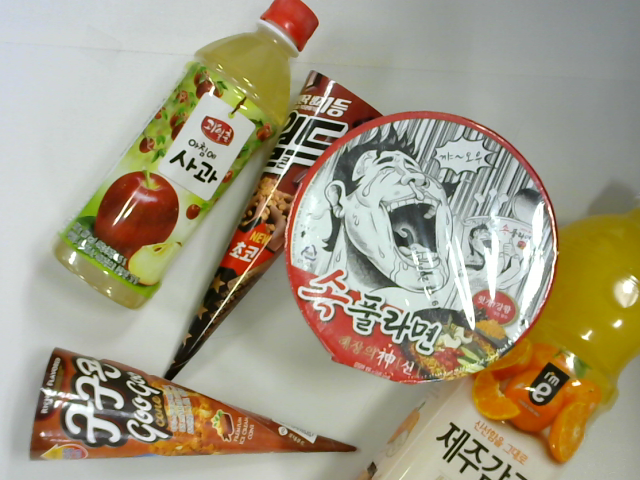GooGoo_Cone_CVS: (30, 350, 360, 469)
Hejangpul: (291, 117, 528, 365)
Jeju_Tangerine_1.5L: (356, 200, 640, 479)
Morning_Apple_500ml: (55, 2, 317, 311)
World_Cone_Choco: (168, 69, 385, 383)
